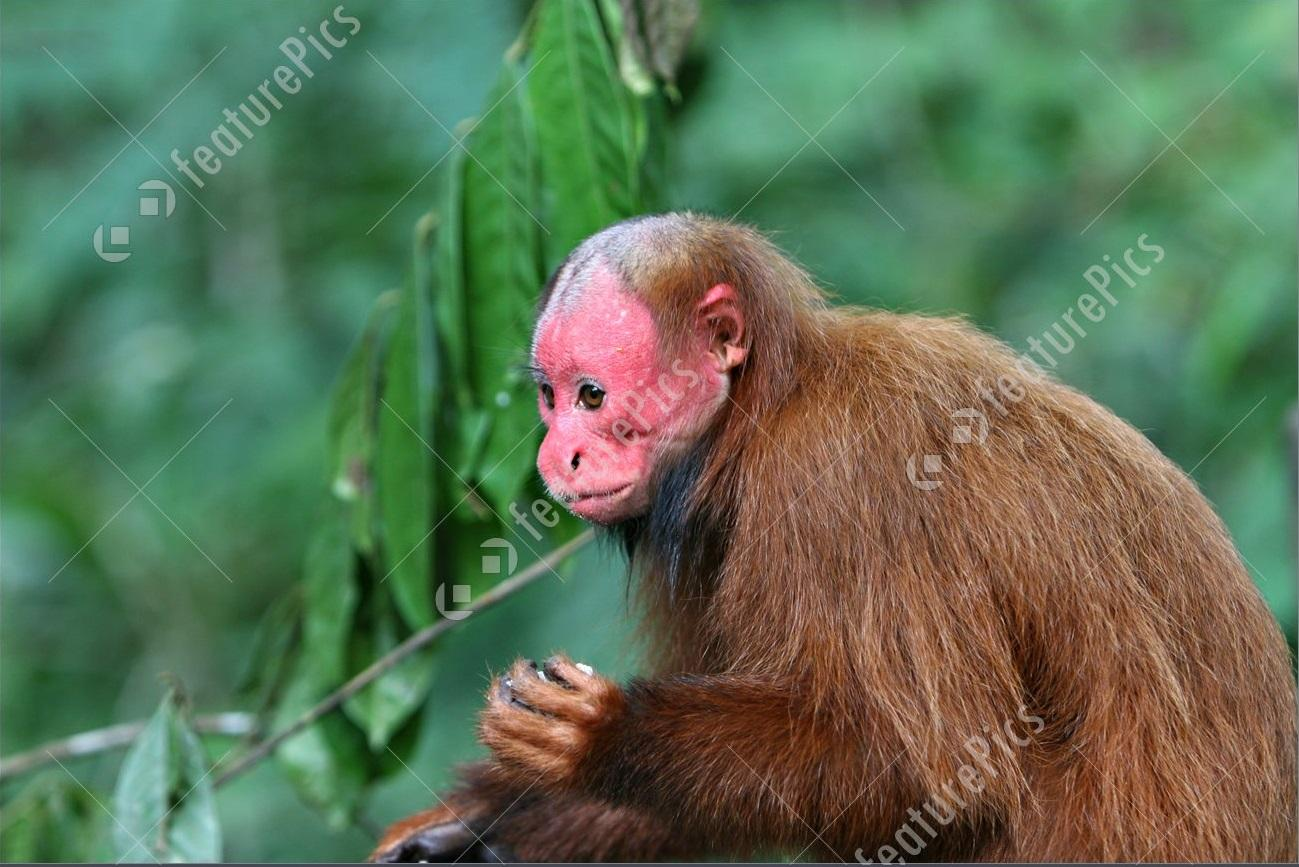monkey: (371, 212, 1299, 863)
